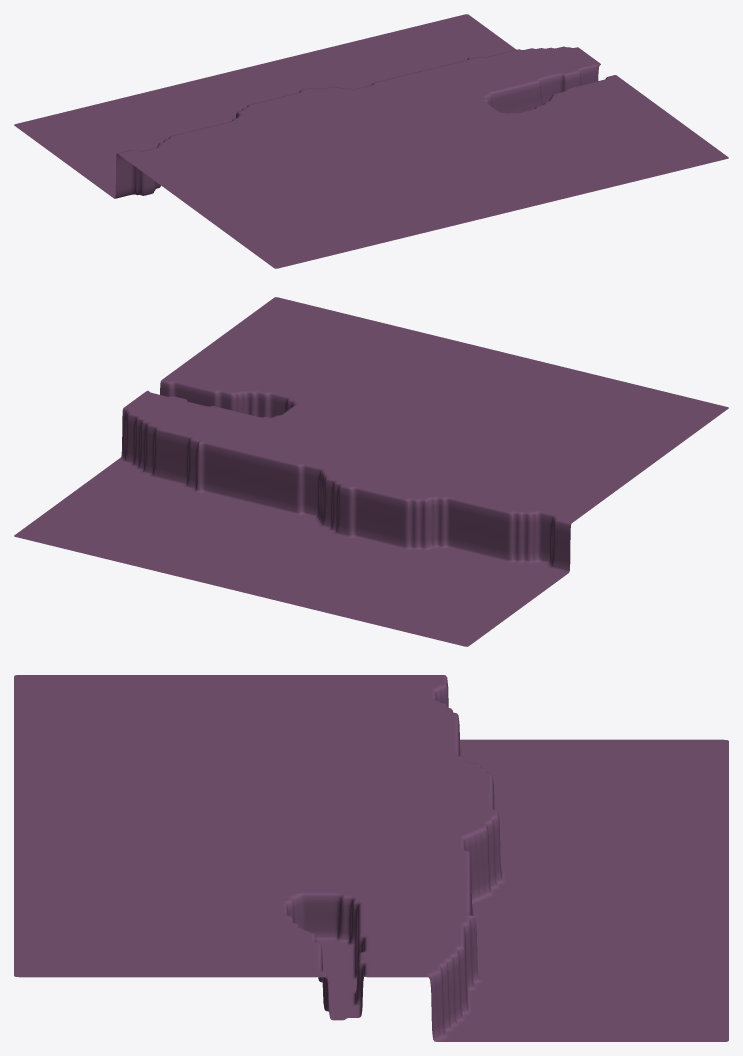
The model's file is polus_terrain.fbx.
3 renders of one model, top to bottom at view 1: azimuth 30°, elevation 25°; view 2: azimuth 150°, elevation 25°; view 3: azimuth 270°, elevation 25°, orthographic. The views are drawn at different scales.
Visible parts, largest first — view 1: Terrain; view 2: Terrain; view 3: Terrain.
Boxes of the visible parts, x1=… form: Terrain: x1=14, y1=14, x2=728, y2=268; Terrain: x1=14, y1=297, x2=728, y2=646; Terrain: x1=14, y1=675, x2=728, y2=1041.
Size of the model in its own units: 15000 by 1500 by 15000.
